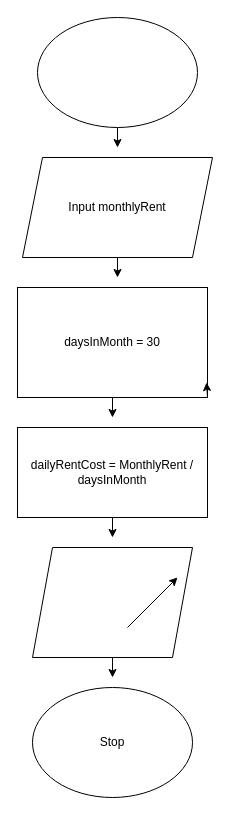
The diagram is 233 pixels wide and 815 high, and some of its shapes have lost their labels. The shapes that lost their labels are listed below. From the top down, each one's centre as x and y in pixels, then its label:
At (117,72): "Start".
At (112,602): "Output dailyRentCost".
